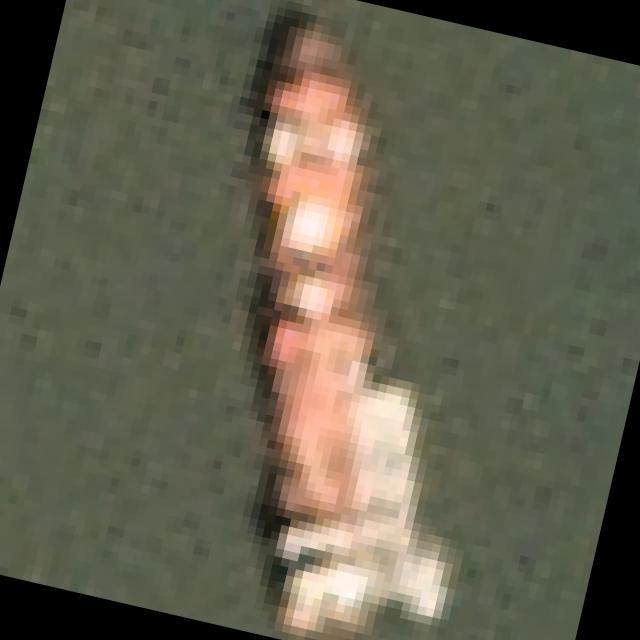ship: (113, 0, 587, 640)
